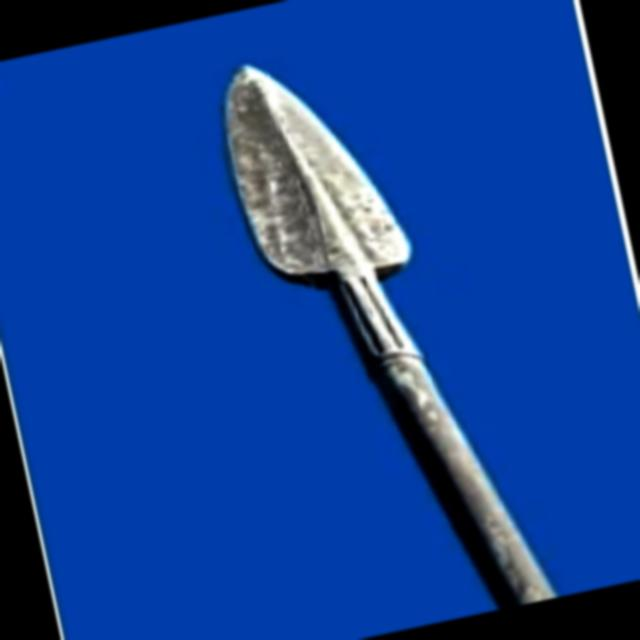spear: (180, 5, 595, 640)
